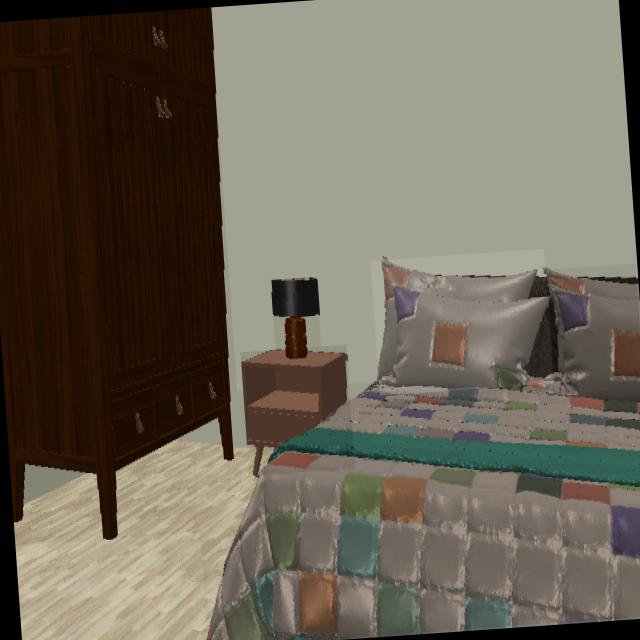bed: (207, 374, 640, 640)
cabinet: (0, 7, 233, 538)
lamp: (273, 280, 317, 359)
nighttable: (244, 349, 347, 475)
pillow: (379, 260, 547, 386), (546, 269, 640, 400)
